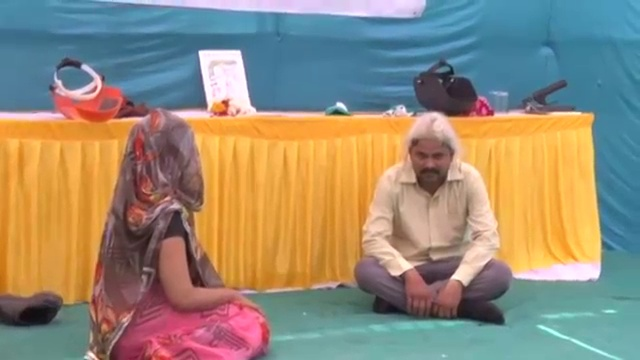helmet_off: (114, 111, 205, 211), (404, 113, 457, 188)
person: (87, 111, 274, 360), (354, 113, 516, 326)
